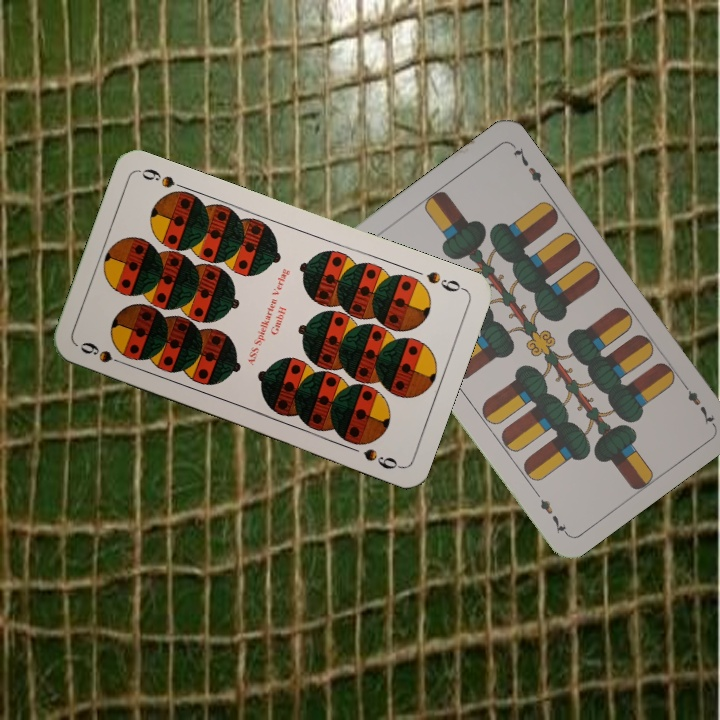E7: (676, 376, 718, 427)
S9: (76, 338, 132, 369), (422, 267, 468, 295)
